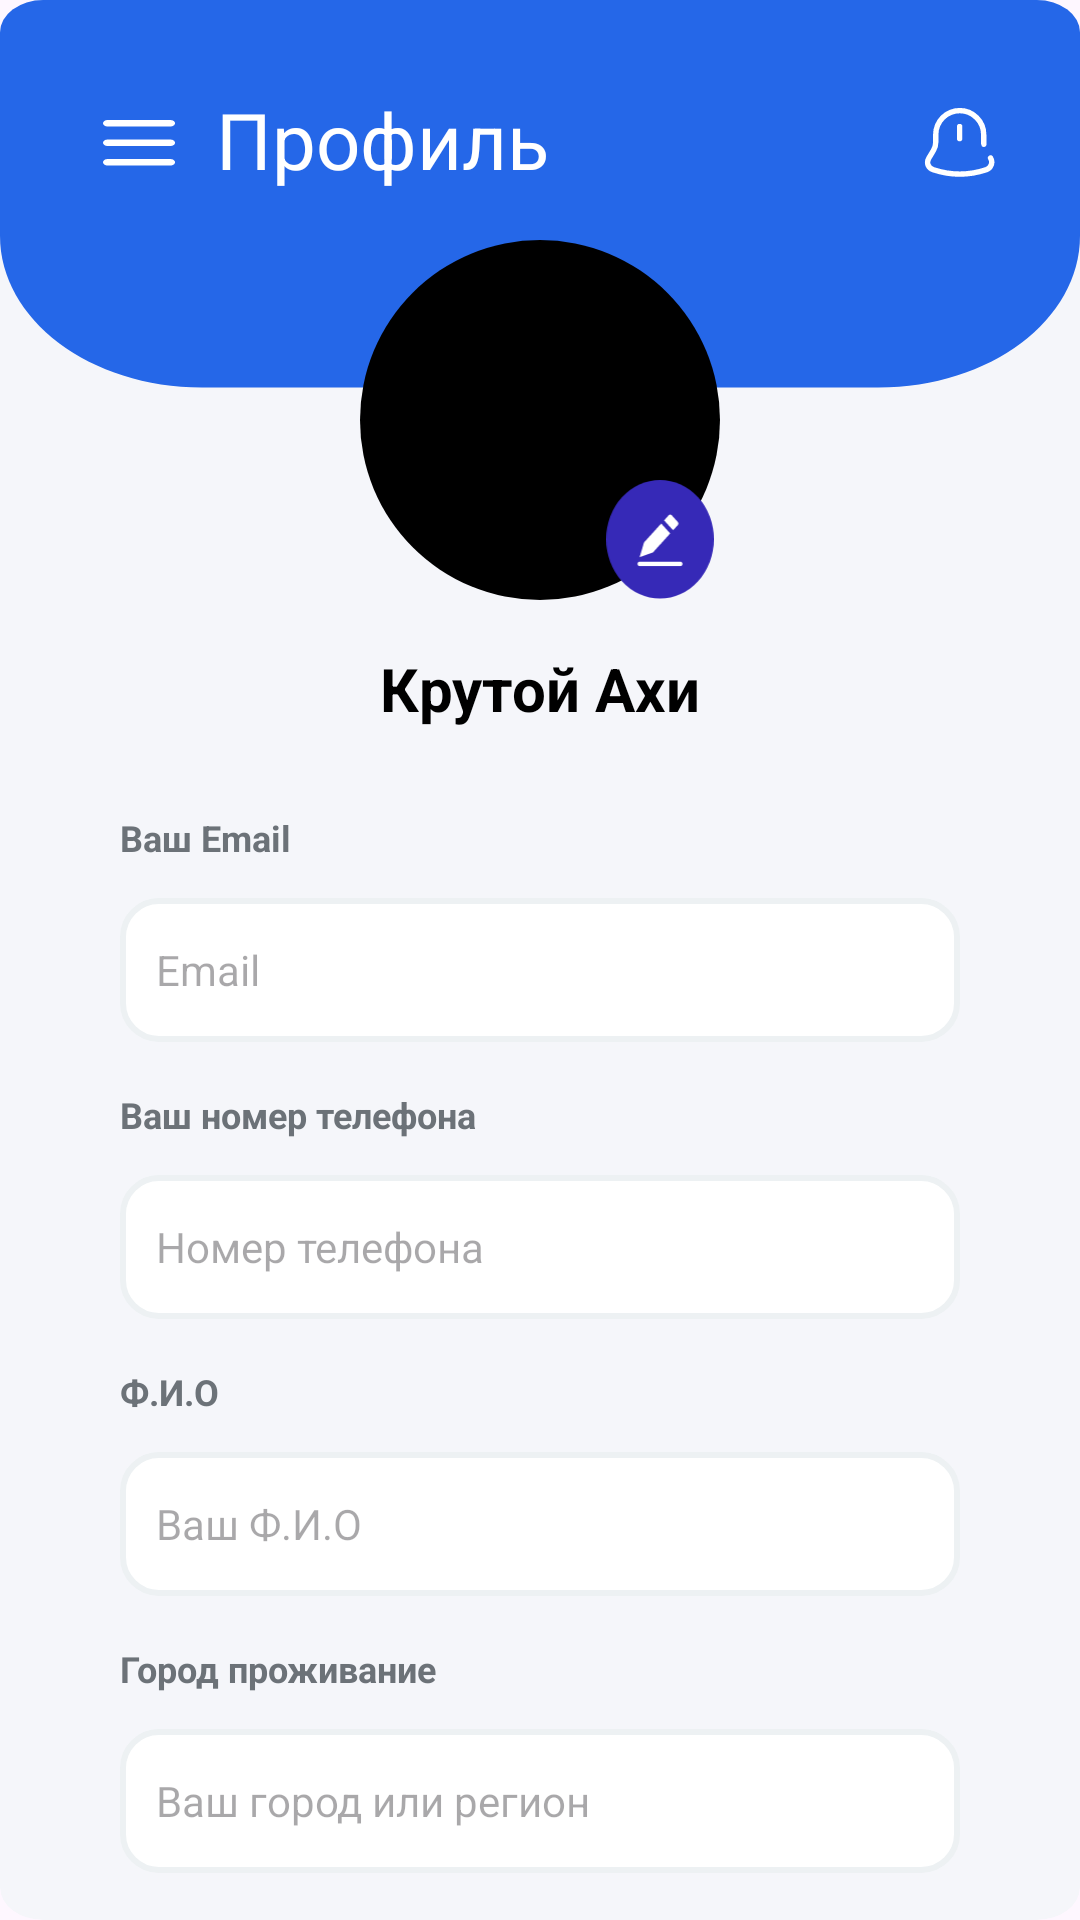

Screen size 1080px×1920px. Icon name, then its center in pixels as [x,y]:
edit: [660,540]
menu: [139,143]
notification: [960,142]
